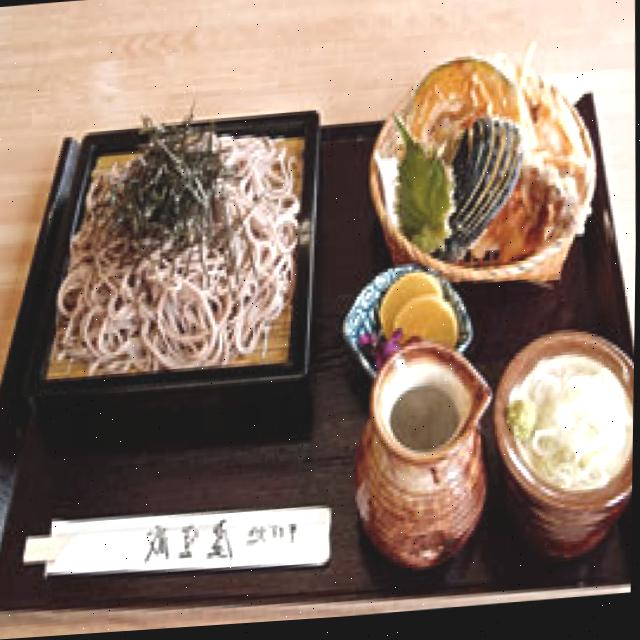面条主食: (9, 73, 348, 486)
